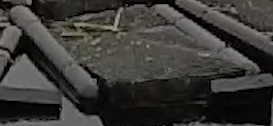bag: (18, 4, 262, 106)
